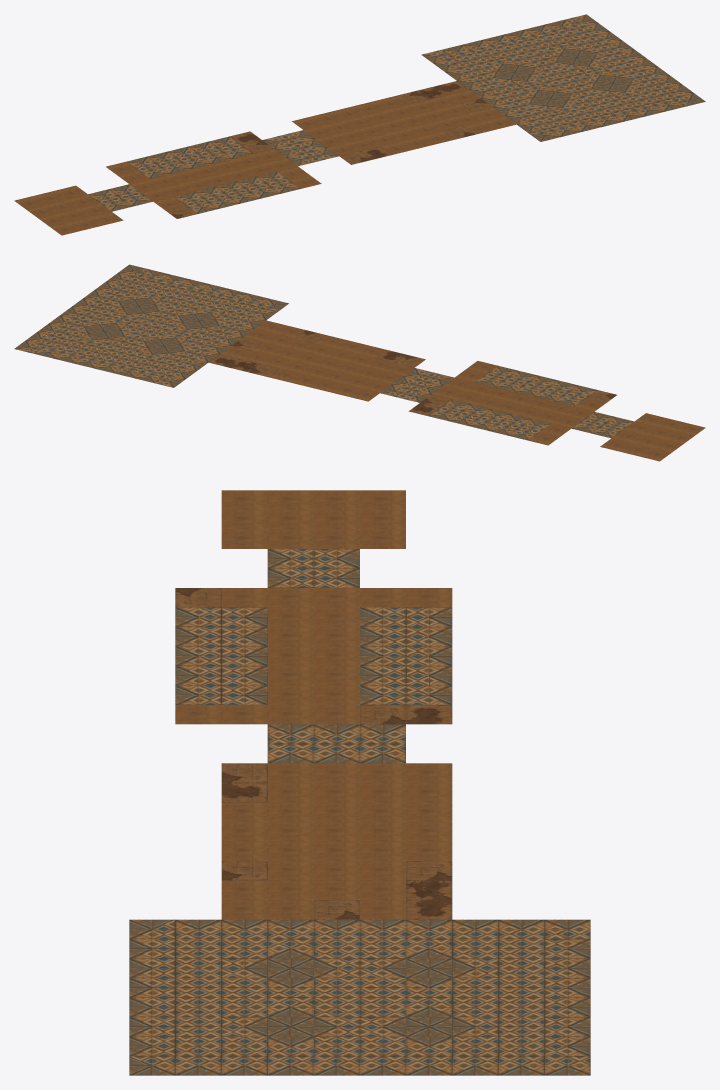
The model's file is Pyramid_3F_all.FBX.
The picture shows the model from 3 angles, top to bottom: view 1: azimuth 30°, elevation 25°; view 2: azimuth 150°, elevation 25°; view 3: azimuth 270°, elevation 25°; orthographic projection. The views are drawn at different scales.
Parts seen in each view (by area): view 1: Pyramid_3F04, Pyramid_3F002, Pyramid_3F03, Pyramid_3F02; view 2: Pyramid_3F04, Pyramid_3F002, Pyramid_3F03, Pyramid_3F02; view 3: Pyramid_3F04, Pyramid_3F002, Pyramid_3F03, Pyramid_3F02.
Part boxes in pixels (x1,y1,x2,y2): Pyramid_3F04: (421,14,705,141); Pyramid_3F002: (14,131,321,235); Pyramid_3F03: (292,81,516,164); Pyramid_3F02: (262,130,338,166); Pyramid_3F04: (14,264,288,387); Pyramid_3F002: (408,361,705,461); Pyramid_3F03: (209,320,425,401); Pyramid_3F02: (380,368,453,402); Pyramid_3F04: (129,919,590,1075); Pyramid_3F002: (175,490,452,724); Pyramid_3F03: (221,763,452,919); Pyramid_3F02: (267,724,405,763).
Size of the model in its own units: 120 by 3.02e-07 by 40.
